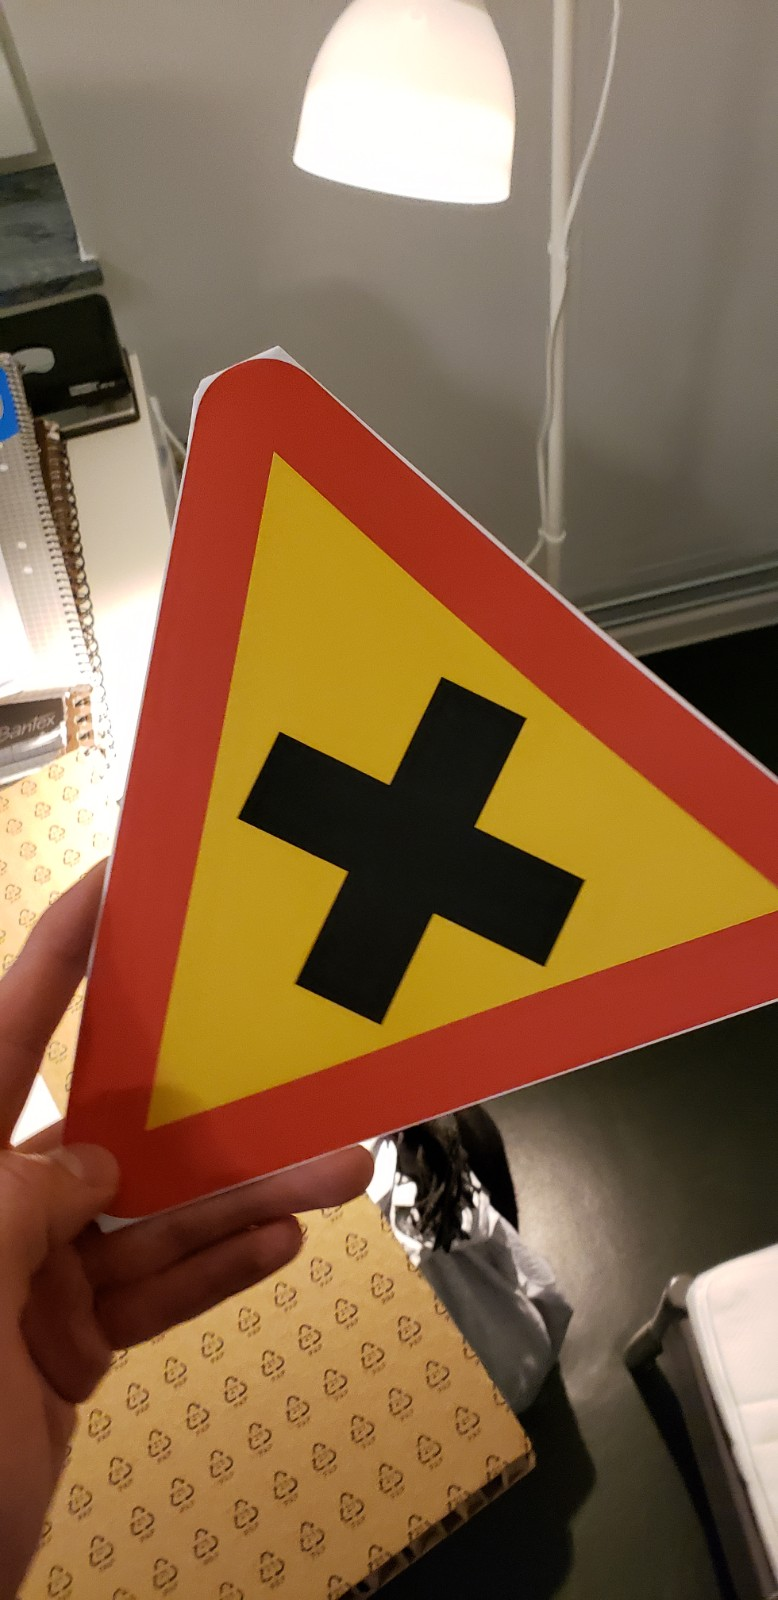junction: (51, 324, 778, 1223)
